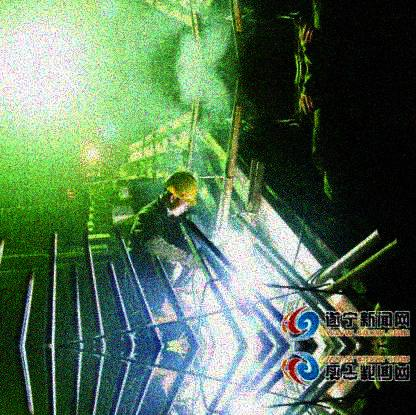helmet: (161, 169, 200, 218)
